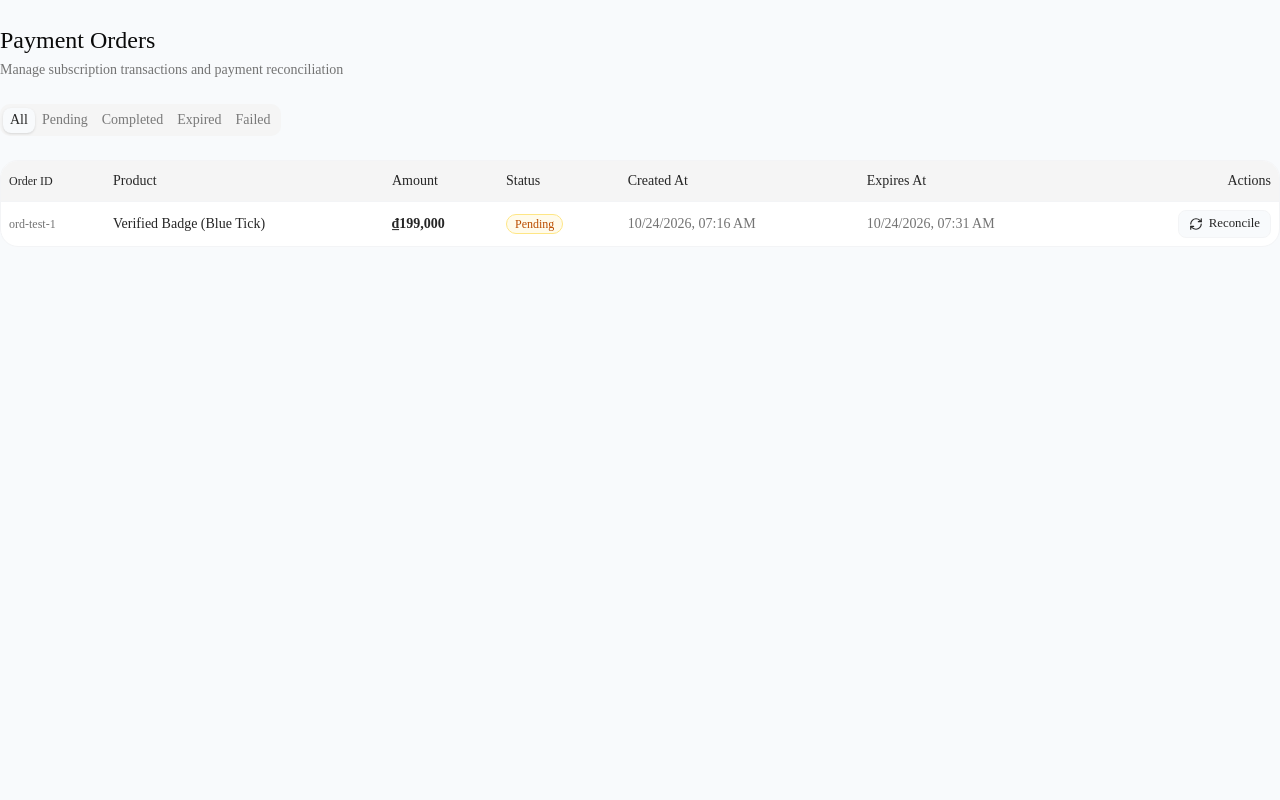
it: PaymentsPageContent › opens reconcile dialog when reconcile button is clicked
Click the button "Reconcile". click: (1224, 224)
box: 1178,210 -> 1271,238
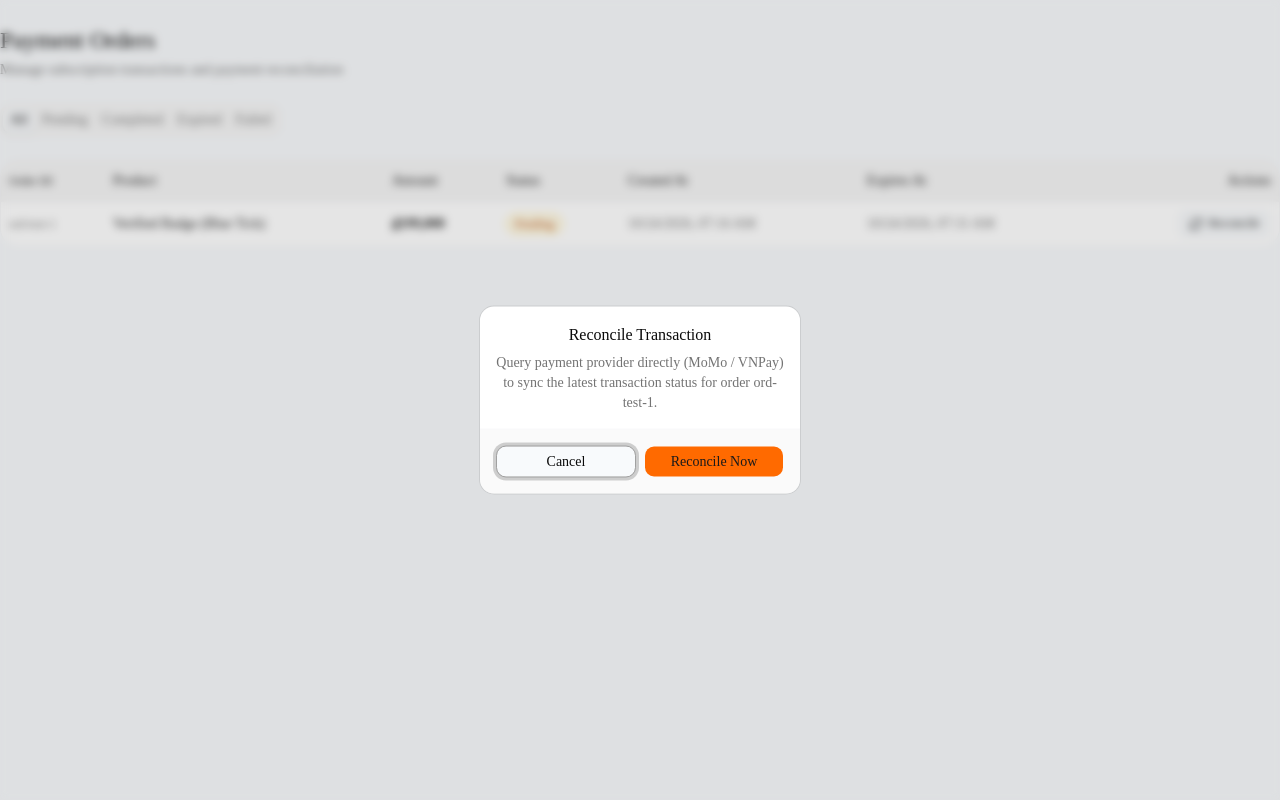
Expected: the heading "Reconcile Transaction" is shown, 569,322 -> 711,346
